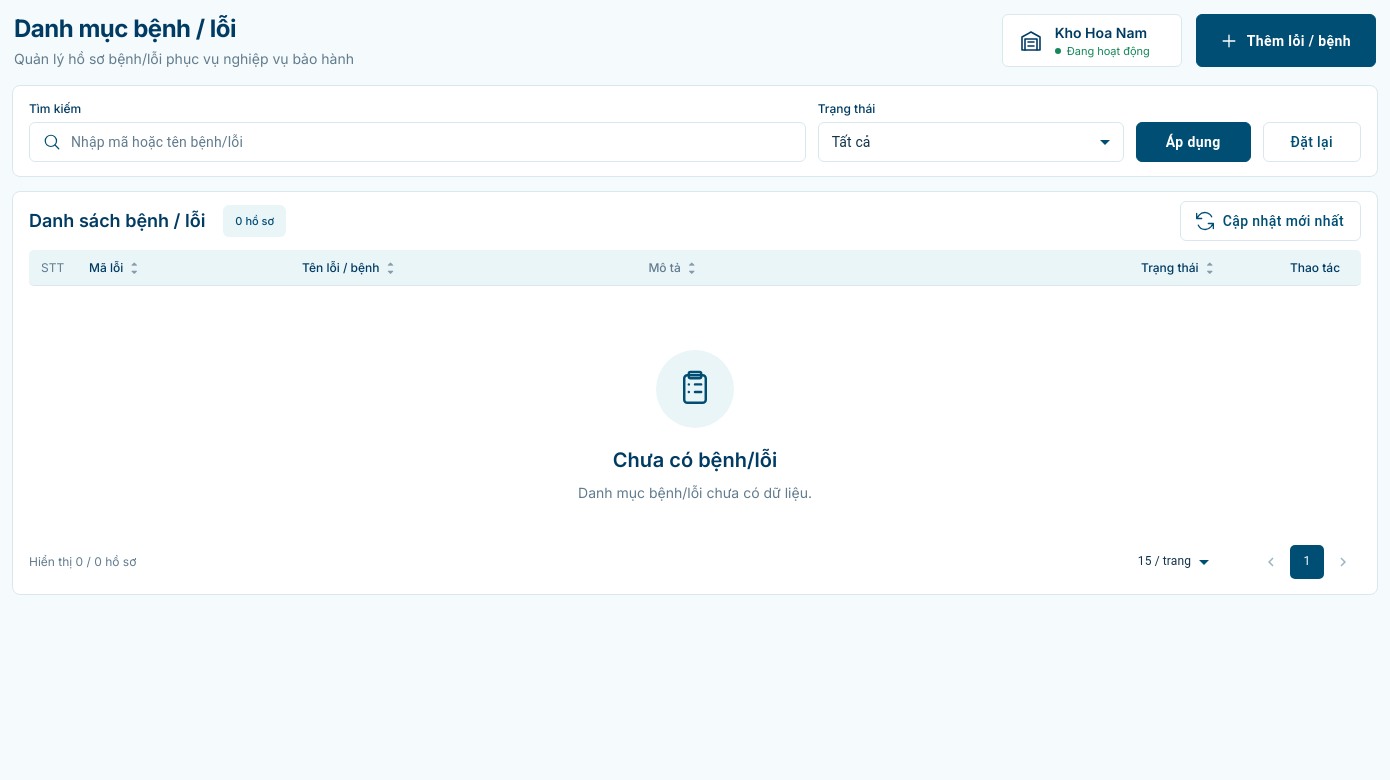
Test case: DefectMasterScreen interactions › distinguishes an empty catalog from an empty filtered result and resets it
This screenshot has width=1390, height=780.
expect the message "Chưa có bệnh/lỗi" is shown: met, box [578,350,812,500]
expect the button "Xóa tìm kiếm" is not shown: met
Type "missing" into the field named "Tìm lỗi/bệnh". click: (438, 142)
box: [71,123,806,160]
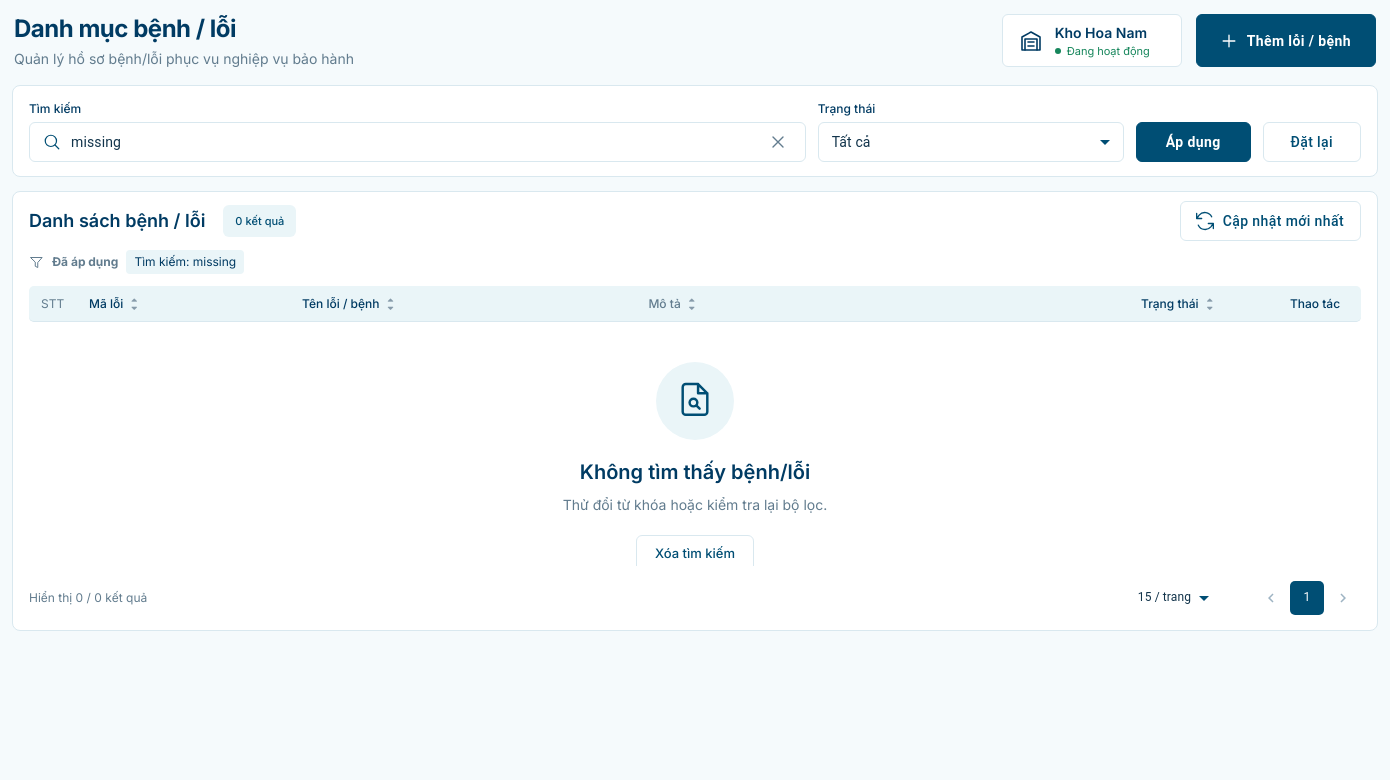
Click the dropdown named "Lọc theo trạng thái". click: (851, 142)
box: [832,134,871,150]
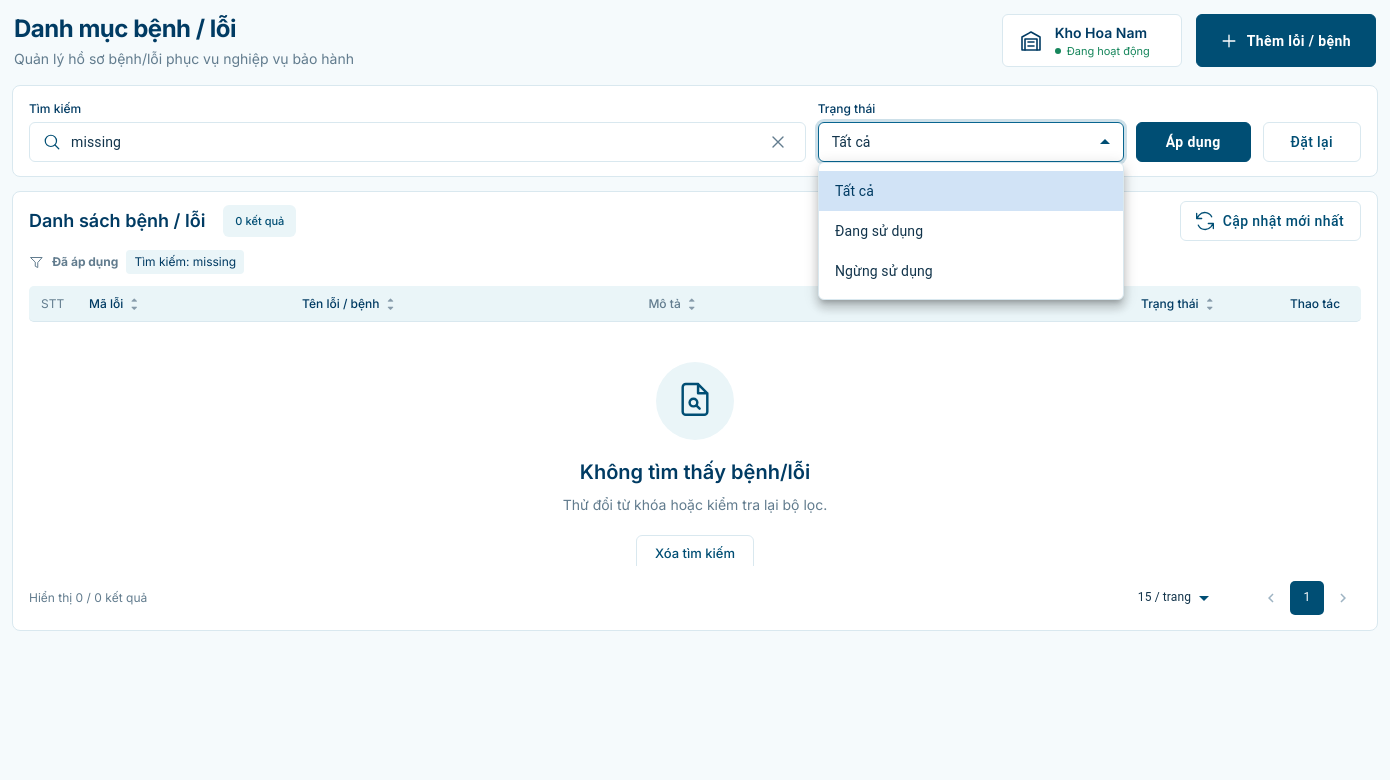
Click the option "Ngừng sử dụng". click: (884, 270)
box: [835,262,933,278]
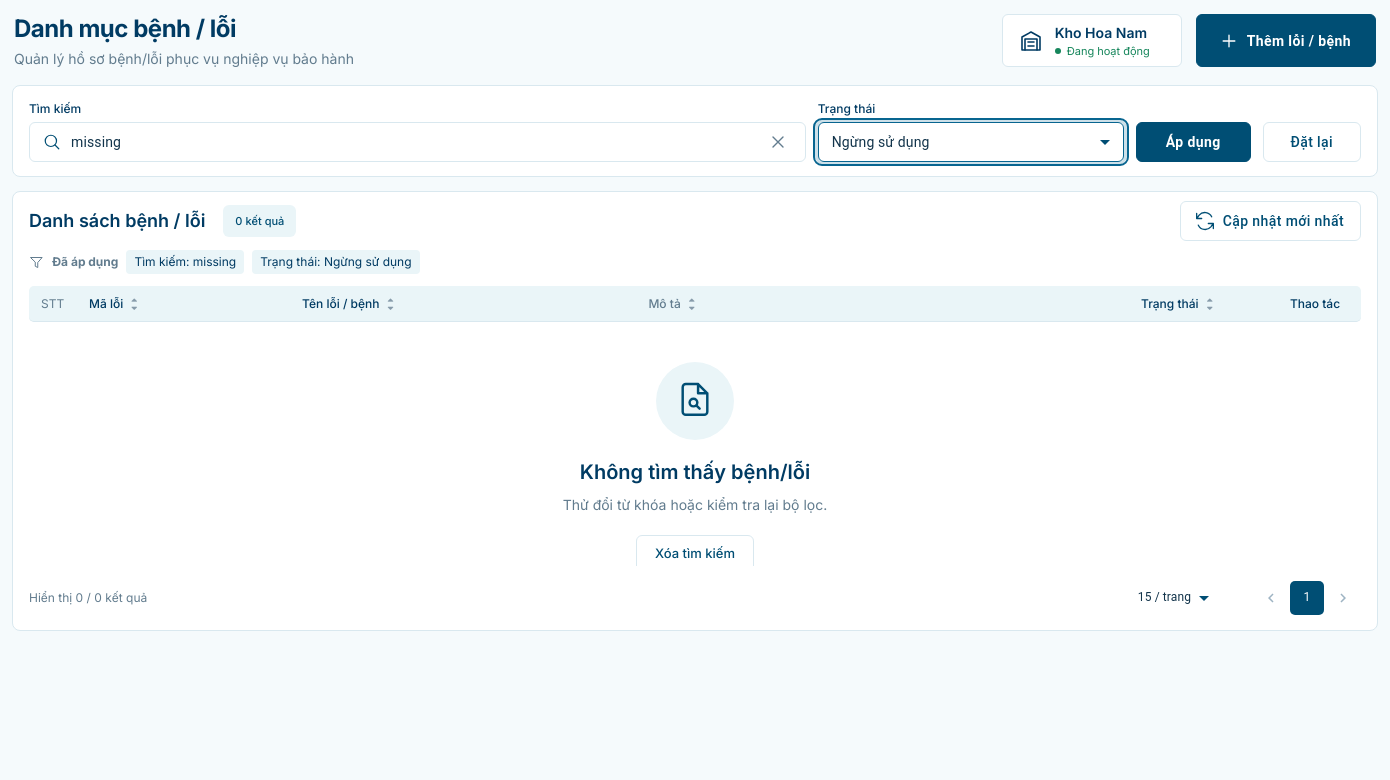
expect the message "Không tìm thấy bệnh/lỗi" is shown: met, box [563,362,827,566]
Click the button "Xóa tìm kiếm". click: (695, 554)
box: [636,535,754,573]
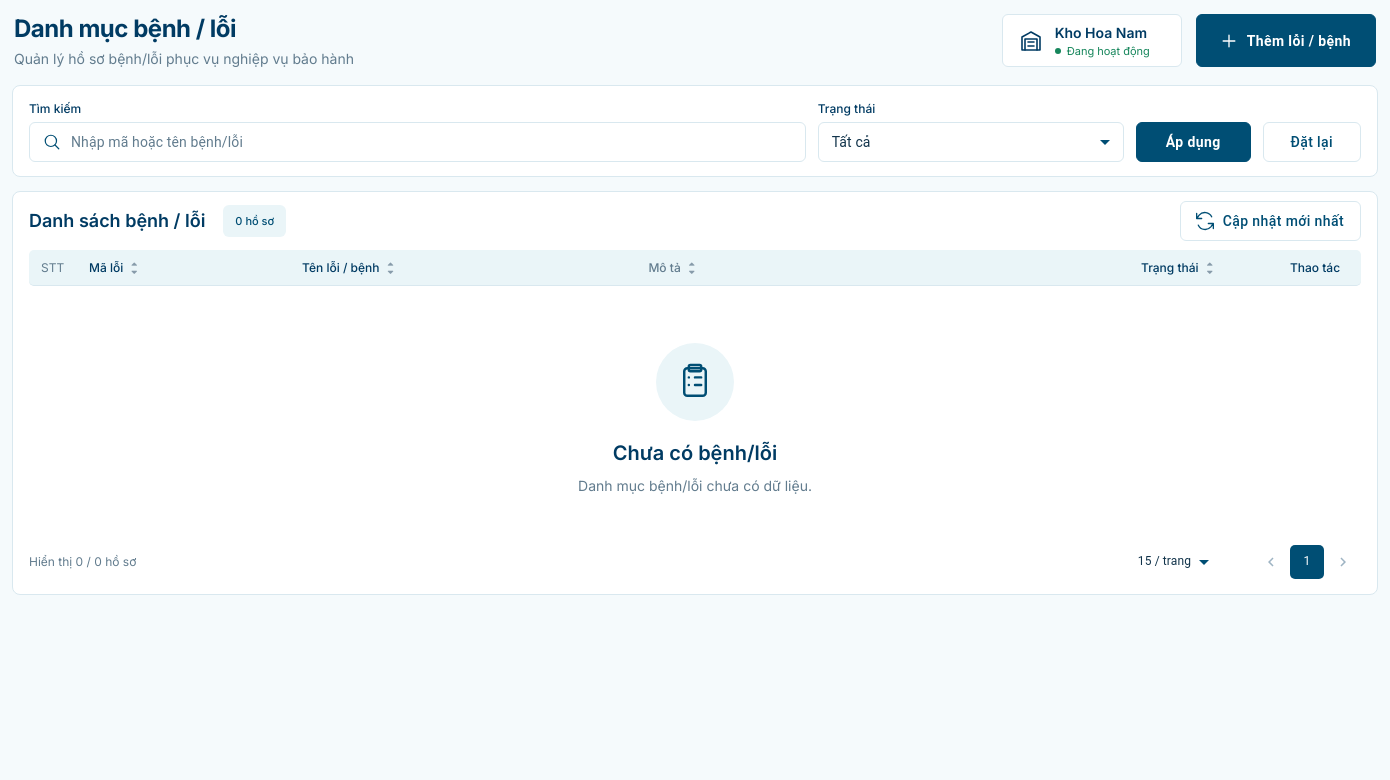
expect the message "Chưa có bệnh/lỗi" is shown: met, box [578,342,812,494]
